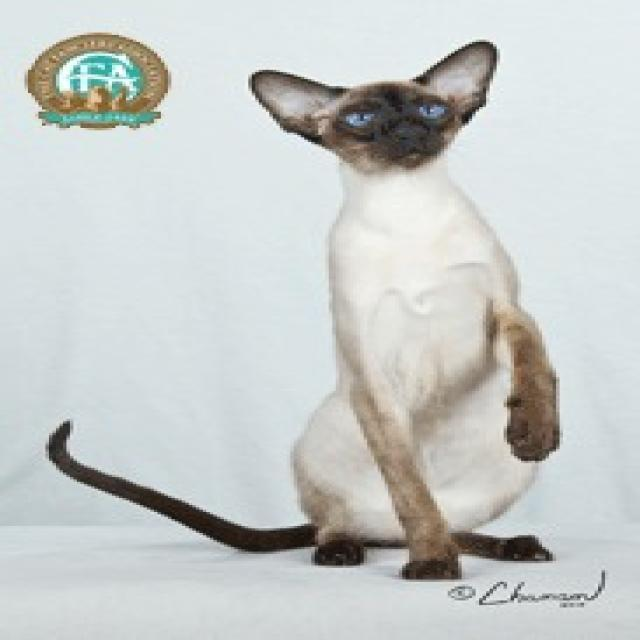Siamese: (240, 34, 515, 180)
